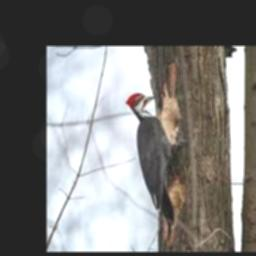Woodpecker: (126, 93, 183, 242)
